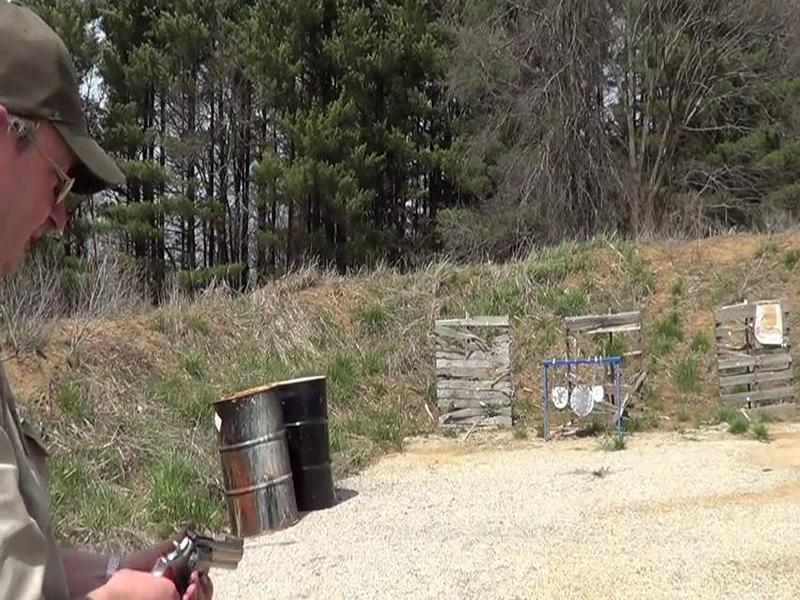Revolver: (137, 522, 262, 600)
